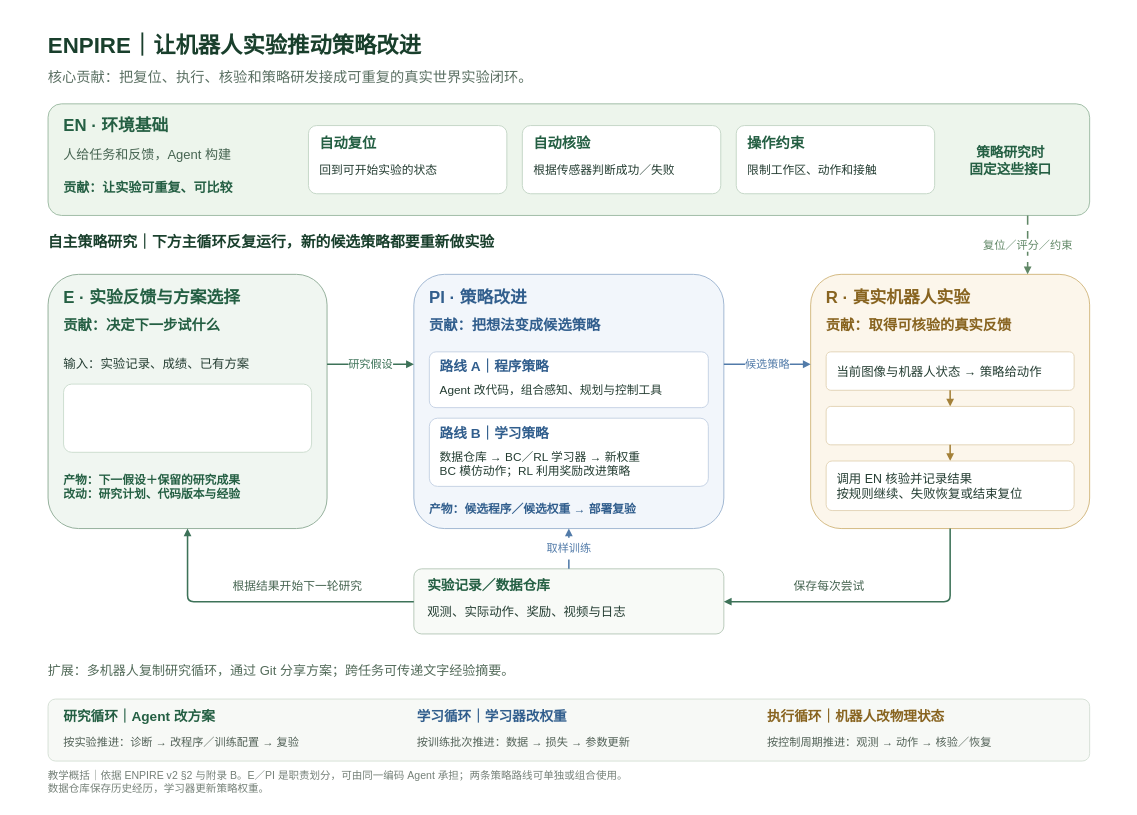
Image size: 1137x815. Some labels were removed from this diagram. Here are the shapes that lost their labels. From the top down, the centre of each, then its label:
At (x=187, y=417): "编码 Agent 分析失败、提出假设 比较新旧方案，保留有效修改 可读取其他分支的代码与经验".
At (x=949, y=425): "动作 → 控制器 → 机器人真实接触".
